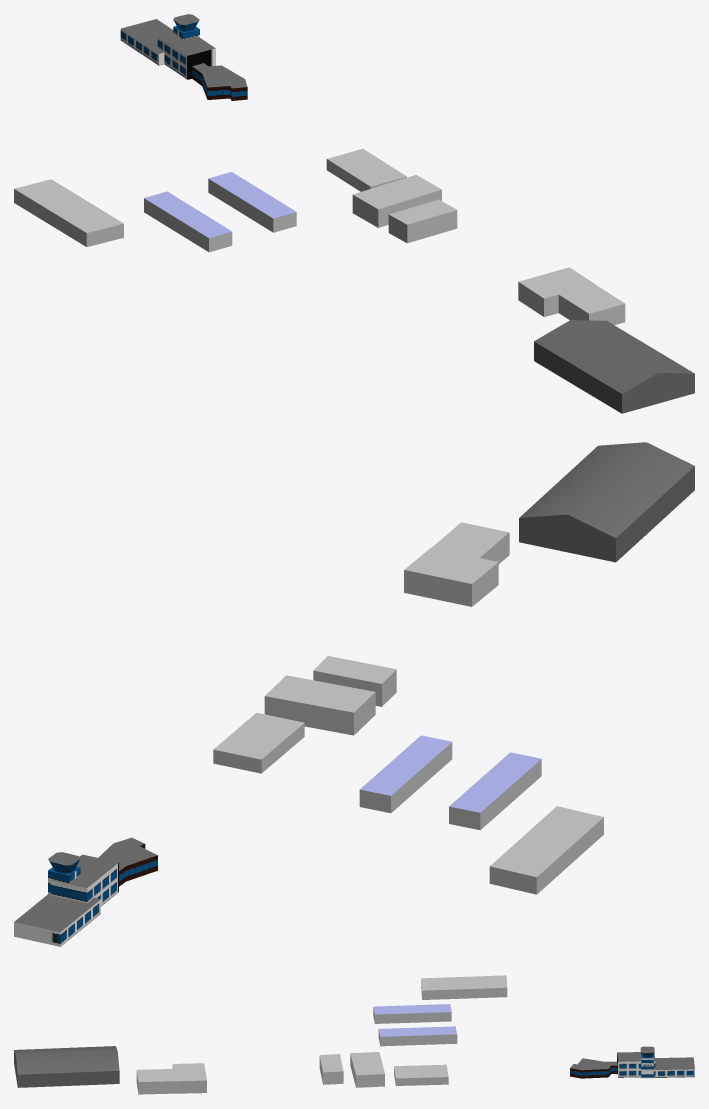
The model's file is AEYairport.glb.
3 views of the same model, one above another, from view 1: azimuth 30°, elevation 25°; view 2: azimuth 150°, elevation 25°; view 3: azimuth 270°, elevation 25° (orthographic). The views are drawn at different scales.
Parts seen in each view (by area): view 1: Buffer Object 1, Buffer Object, Buffer Object 2, Merged Objects 6, Merged Objects, Merged Objects 2; view 2: Buffer Object 1, Buffer Object, Buffer Object 2, Merged Objects 6, Merged Objects; view 3: Buffer Object 1, Buffer Object, Buffer Object 2, Merged Objects 6, Merged Objects, Merged Objects 2, Merged Objects 3.
Boxes of the visible parts, bbox=[...] form: Buffer Object 1: bbox=[14, 149, 625, 325]; Buffer Object: bbox=[534, 320, 694, 413]; Buffer Object 2: bbox=[144, 172, 296, 238]; Merged Objects 6: bbox=[121, 14, 247, 88]; Merged Objects: bbox=[120, 27, 215, 79]; Merged Objects 2: bbox=[192, 66, 247, 100]; Buffer Object 1: bbox=[213, 522, 603, 894]; Buffer Object: bbox=[519, 442, 694, 562]; Buffer Object 2: bbox=[360, 735, 541, 812]; Merged Objects 6: bbox=[14, 837, 157, 931]; Merged Objects: bbox=[14, 863, 118, 946]; Buffer Object 1: bbox=[136, 975, 507, 1094]; Buffer Object: bbox=[14, 1046, 119, 1087]; Buffer Object 2: bbox=[373, 1004, 456, 1036]; Merged Objects 6: bbox=[570, 1046, 694, 1070]; Merged Objects: bbox=[617, 1053, 694, 1077]; Merged Objects 2: bbox=[570, 1065, 617, 1078]; Merged Objects 3: bbox=[641, 1058, 653, 1078].
Size of the model in its own units: 158 by 17.24 by 414.
6 materials, 1 textured.
